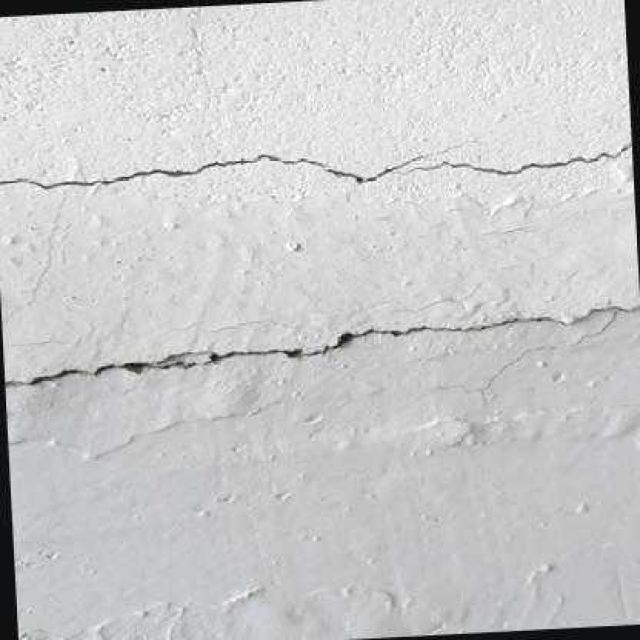D00: (3, 327, 369, 386), (0, 154, 423, 188), (381, 301, 640, 339), (396, 142, 631, 175)
